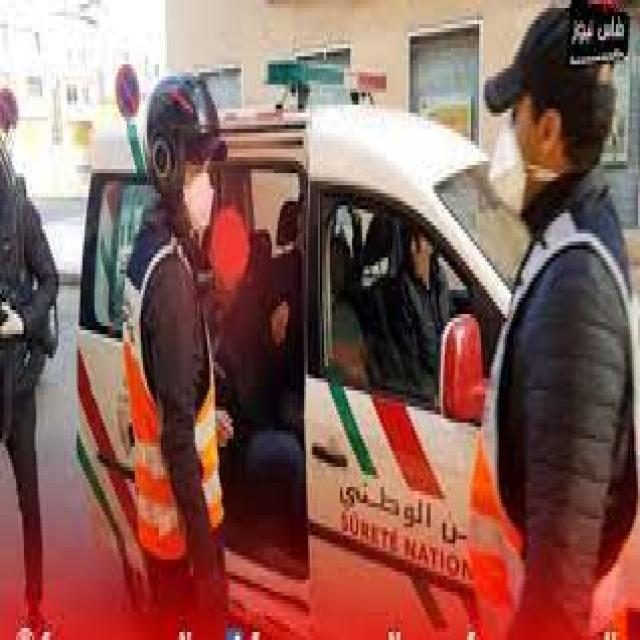police: (76, 66, 640, 640)
